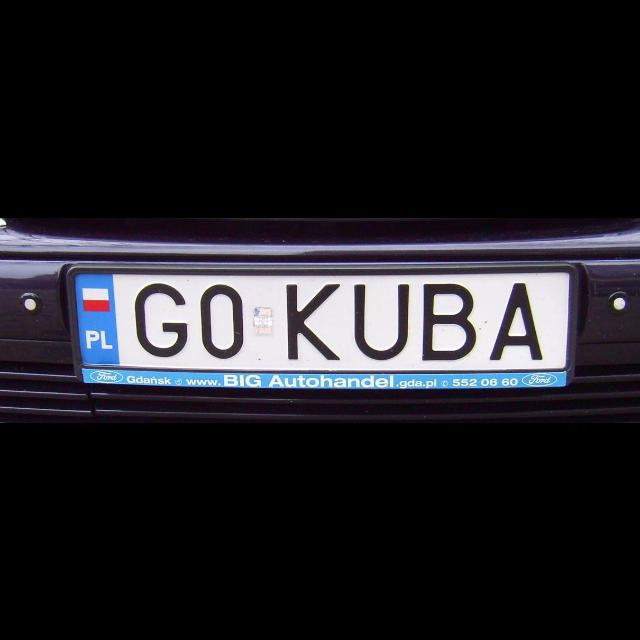pl_license_plate: (72, 268, 570, 366)
